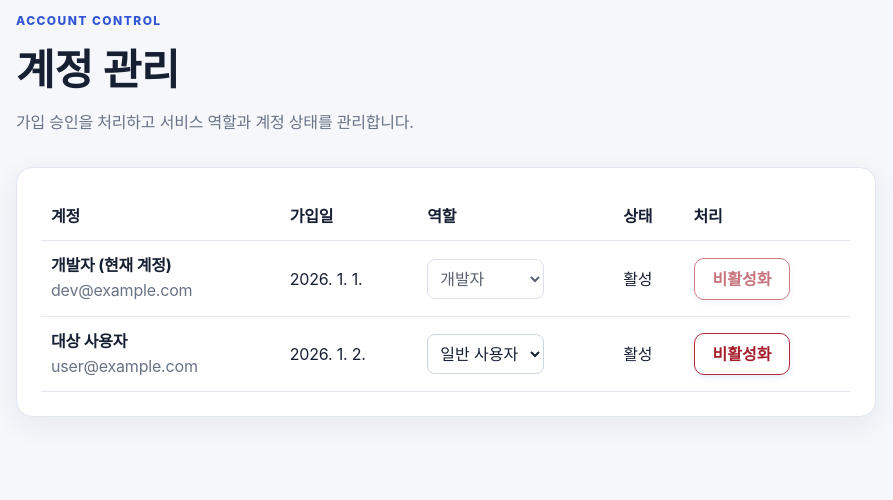
AccountsPage › 변경 충돌 뒤 계정 목록을 다시 불러온다
The image size is (893, 500).
Select "개발자" in the dropdown named "대상 사용자 역할" at [486, 354], box [427,334,544,374]
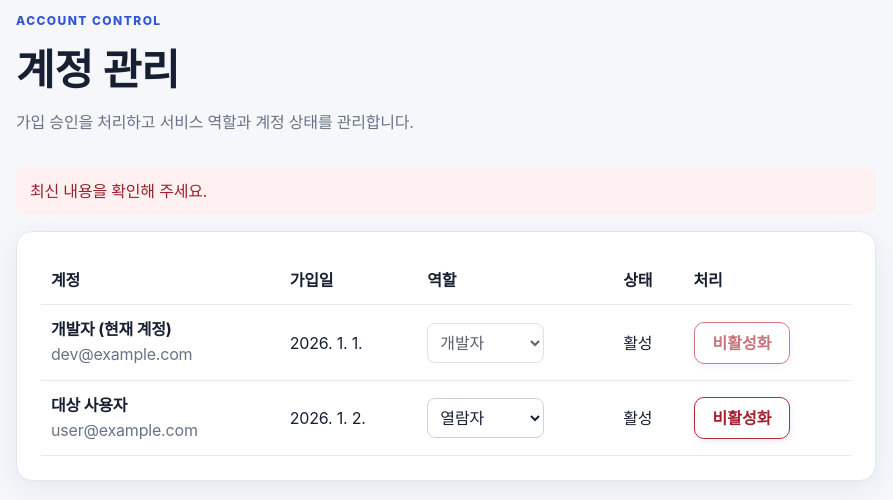
expect the text "최신 내용을 확인해 주세요." is shown: met, box [16,167,876,215]
